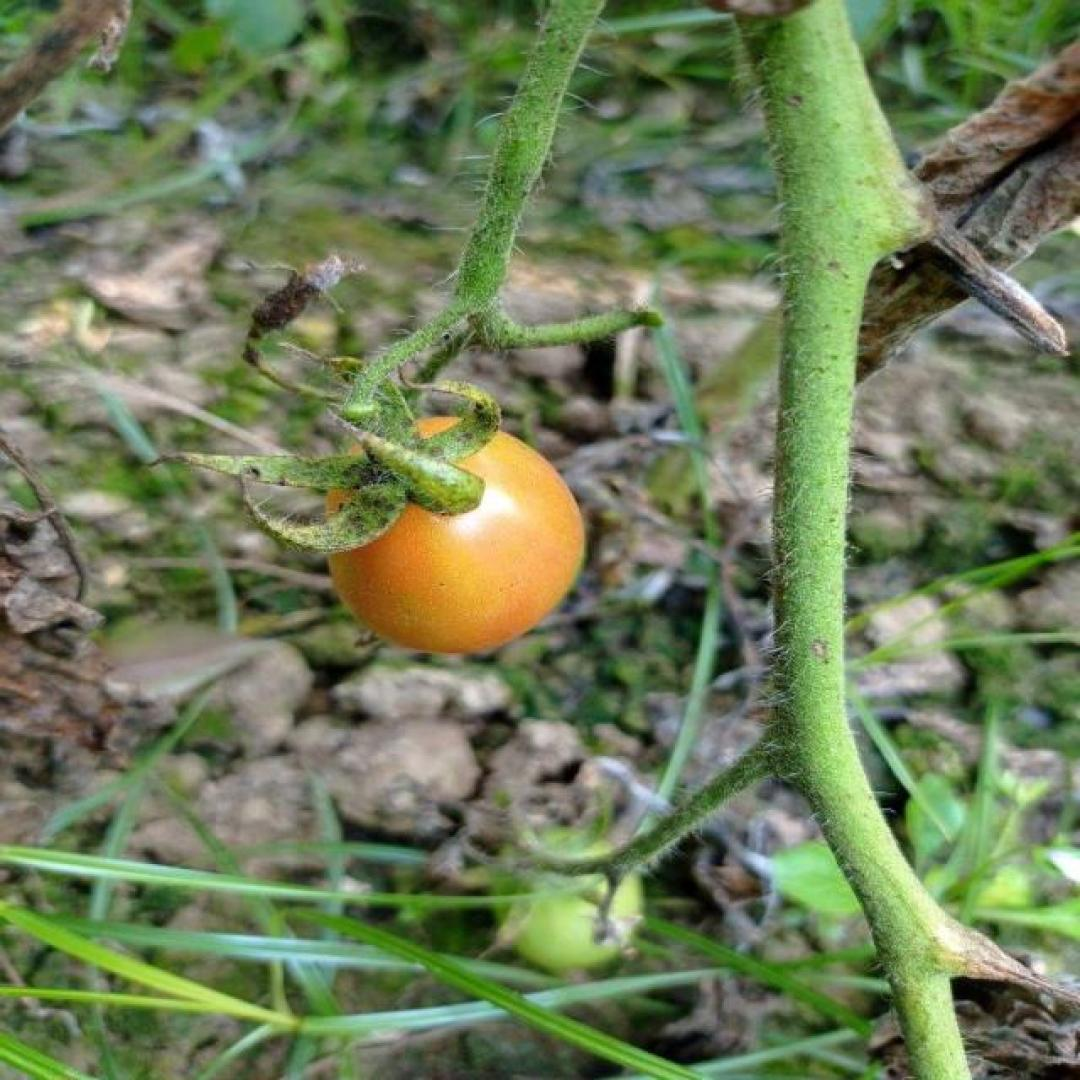setengah_matang: (315, 417, 589, 655)
